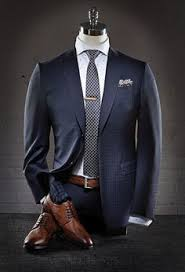F_M_suit jacket: (18, 35, 174, 236)
F_belt: (57, 170, 132, 196)
